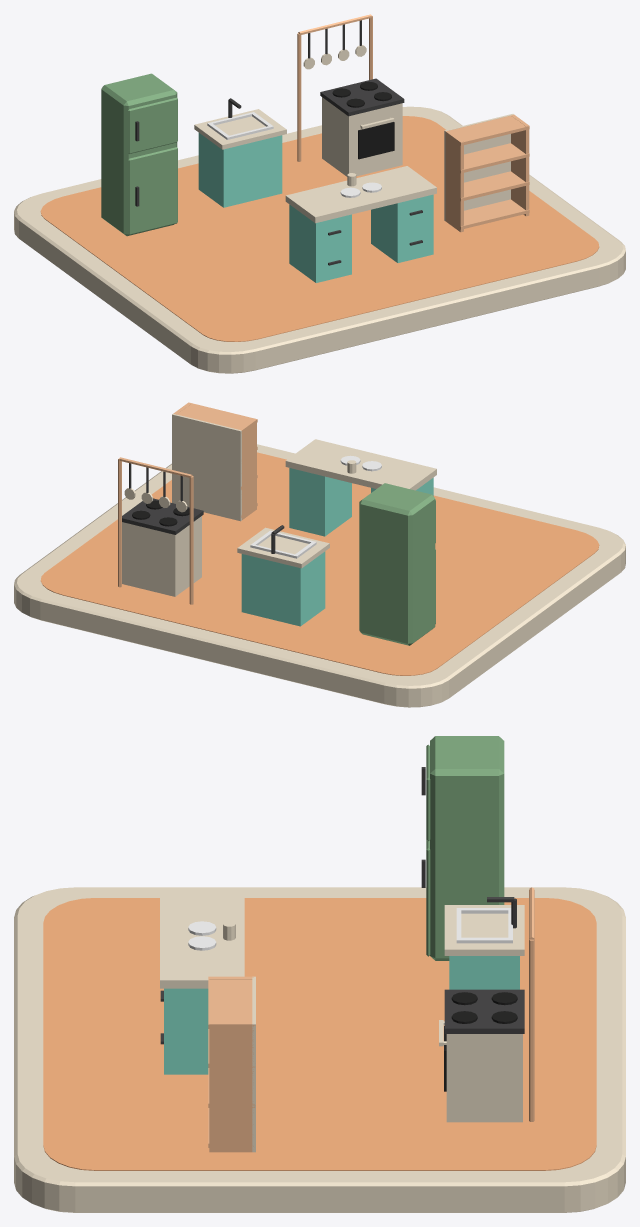
The model's file is room.fbx.
The picture shows the model from 3 angles, top to bottom: view 1: azimuth 30°, elevation 25°; view 2: azimuth 150°, elevation 25°; view 3: azimuth 270°, elevation 25°; orthographic projection. The views are drawn at different scales.
Visible parts, largest first — view 1: COM-02 Floor Surface, COM-01 Rounded Base Direct, Cabinet, Cabinet.001, Worktop, Stove, Door, Storage module, Storage module.001, Door.001, Counter, Back (+9 smaller); view 2: COM-02 Floor Surface, COM-01 Rounded Base Direct, Cabinet, Back, Cabinet.001, Stove, Worktop, Storage module.001, Counter, Side, Hob, Shelf.003 (+2 smaller); view 3: COM-02 Floor Surface, COM-01 Rounded Base Direct, Cabinet, Stove, Worktop, Side.001, Storage module.001, Counter, Hob, Cabinet.001, Shelf.003, Post.001 (+1 smaller).
Boxes of the visible parts, <box> form: COM-02 Floor Surface: <box>40,116,599,341</box>; COM-01 Rounded Base Direct: <box>14,106,625,373</box>; Cabinet: <box>101,73,177,236</box>; Cabinet.001: <box>198,133,282,207</box>; Worktop: <box>285,166,436,223</box>; Stove: <box>322,97,402,176</box>; Door: <box>128,147,177,234</box>; Storage module: <box>289,204,351,282</box>; Storage module.001: <box>371,194,433,262</box>; Door.001: <box>128,97,177,153</box>; Counter: <box>194,109,286,149</box>; Back: <box>444,114,513,220</box>; COM-02 Floor Surface: <box>40,452,599,675</box>; COM-01 Rounded Base Direct: <box>14,444,625,707</box>; Cabinet: <box>359,483,435,645</box>; Back: <box>172,413,241,521</box>; Cabinet.001: <box>241,551,325,626</box>; Stove: <box>122,516,201,596</box>; Worktop: <box>285,439,436,490</box>; Storage module.001: <box>289,468,351,536</box>; Counter: <box>237,527,329,568</box>; Side: <box>238,418,256,519</box>; Hob: <box>122,498,203,534</box>; Shelf.003: <box>177,402,257,433</box>; COM-02 Floor Surface: <box>43,898,596,1170</box>; COM-01 Rounded Base Direct: <box>14,887,625,1212</box>; Cabinet: <box>430,736,504,960</box>; Stove: <box>446,1034,522,1122</box>; Worktop: <box>160,895,244,988</box>; Side.001: <box>209,1022,253,1152</box>; Storage module.001: <box>164,988,208,1074</box>; Counter: <box>444,905,524,955</box>; Hob: <box>444,989,524,1033</box>; Cabinet.001: <box>449,956,519,989</box>; Shelf.003: <box>208,976,255,1028</box>; Post.001: <box>529,939,534,1121</box>.
Bounding box in the file's own units: 600 × 210 × 520.
